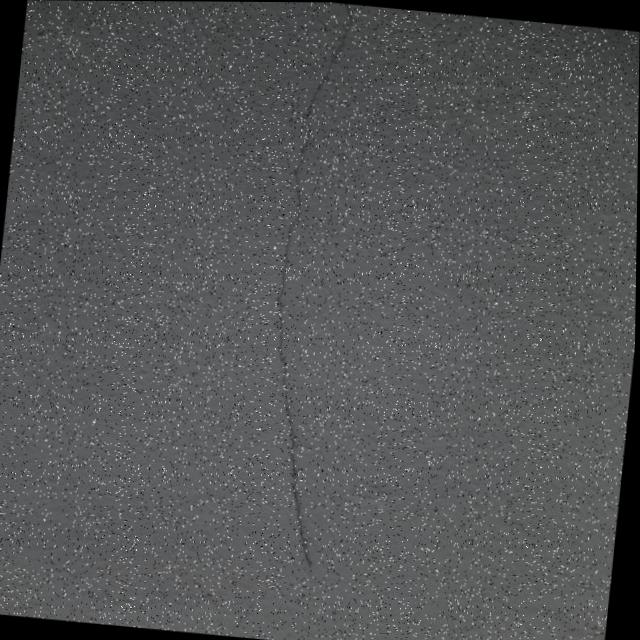Crack: (244, 1, 391, 581)
